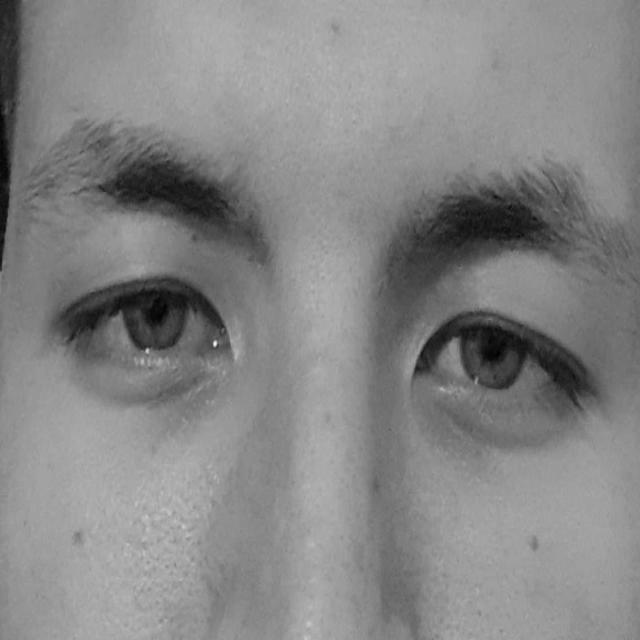real: (38, 148, 633, 493)
